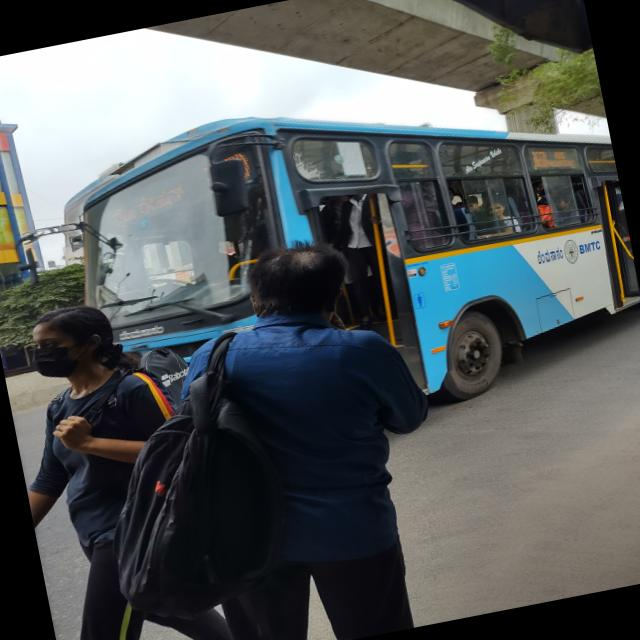bus: (0, 57, 640, 503)
display: (95, 148, 263, 226), (529, 140, 581, 174)
dnumber: (530, 149, 550, 170)
